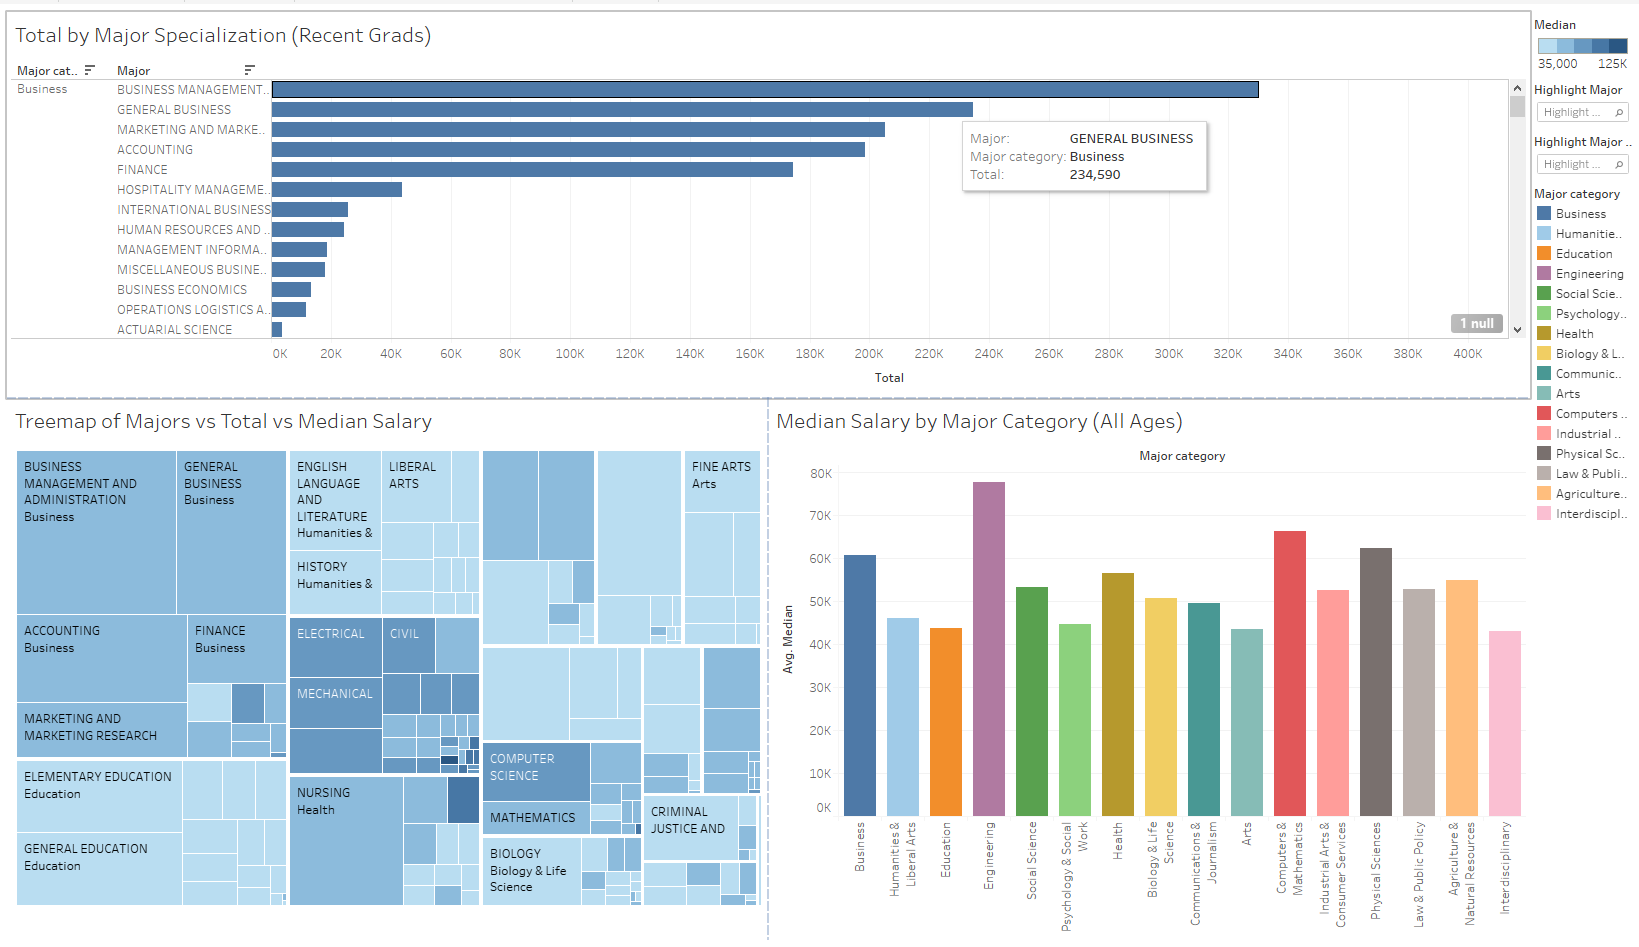

The dashboard page shown, as its layout file describes it:
{"tool":"tableau","page":{"name":"DB2","canvas":[1000,1000],"units":"permille","ordinal":1},"visuals":[{"type":"worksheet","title":"TotalGroupBar","mark":"Automatic","rows":["Major_category","Major"],"cols":["Total"],"box":[4.9,8.5,925.8,408.9]},{"type":"legend","title":"Treemap","param":"[federated.0n1790h0j2yw3z1aka8bq09i8t2s].[sum:Median:qk]","box":[930.7,8.5,64.4,68.9]},{"type":"highlighter","title":"TotalGroupBar","param":"[federated.1q5ycf40tl7pp21941vf40f0e6t9].[none:Major:nk]","box":[930.7,77.3,64.4,55.1]},{"type":"highlighter","title":"Treemap","param":"[federated.1q5ycf40tl7pp21941vf40f0e6t9].[none:Major_category:nk]","box":[930.7,132.4,64.4,55.1]},{"type":"legend","title":"SalaryBar2","param":"[federated.1q5ycf40tl7pp21941vf40f0e6t9].[none:Major_category:nk]","box":[930.7,187.5,64.4,366.5]},{"type":"worksheet","title":"Treemap","mark":"Automatic","box":[4.9,417.4,462.9,574.2]},{"type":"worksheet","title":"SalaryBar2","mark":"Automatic","rows":["Median"],"cols":["Major_category"],"box":[467.8,417.4,462.9,574.2]}]}

Visuals, with their boxes on the dashboard's canvas, which has no fixed pixel size, in thousandths of its width and height (x1, y1, x2, y2). These are canvas units, not pixel positions in the 1639x947 screenshot, which may show the page scaled, cropped or inside an application window:
"TotalGroupBar" worksheet: {"left": 5, "top": 8, "right": 931, "bottom": 417}
"Treemap" legend: {"left": 931, "top": 8, "right": 995, "bottom": 77}
"TotalGroupBar" highlighter: {"left": 931, "top": 77, "right": 995, "bottom": 132}
"Treemap" highlighter: {"left": 931, "top": 132, "right": 995, "bottom": 188}
"SalaryBar2" legend: {"left": 931, "top": 188, "right": 995, "bottom": 554}
"Treemap" worksheet: {"left": 5, "top": 417, "right": 468, "bottom": 992}
"SalaryBar2" worksheet: {"left": 468, "top": 417, "right": 931, "bottom": 992}
